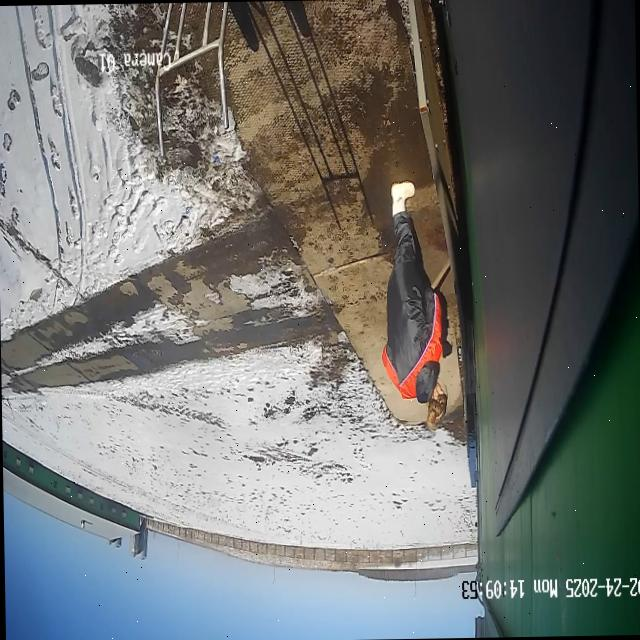Red uniform: (377, 177, 450, 432)
